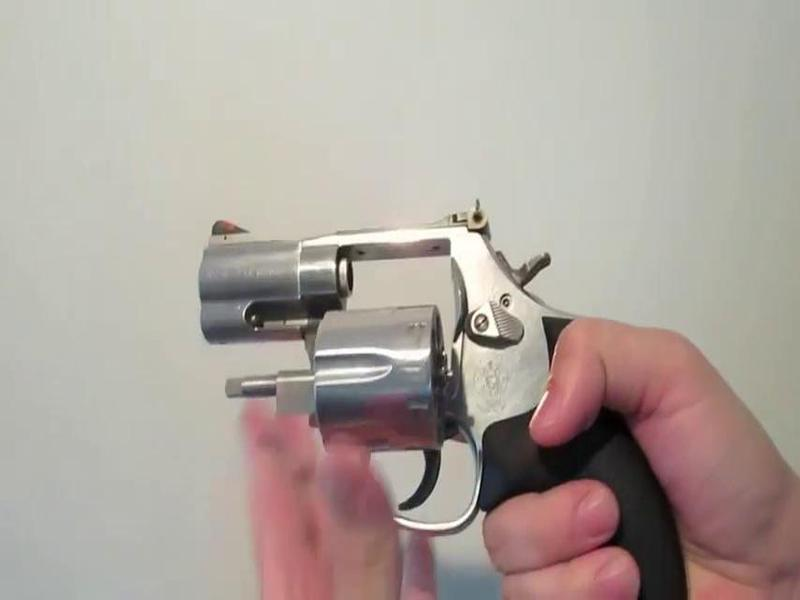Revolver: (197, 184, 711, 600)
